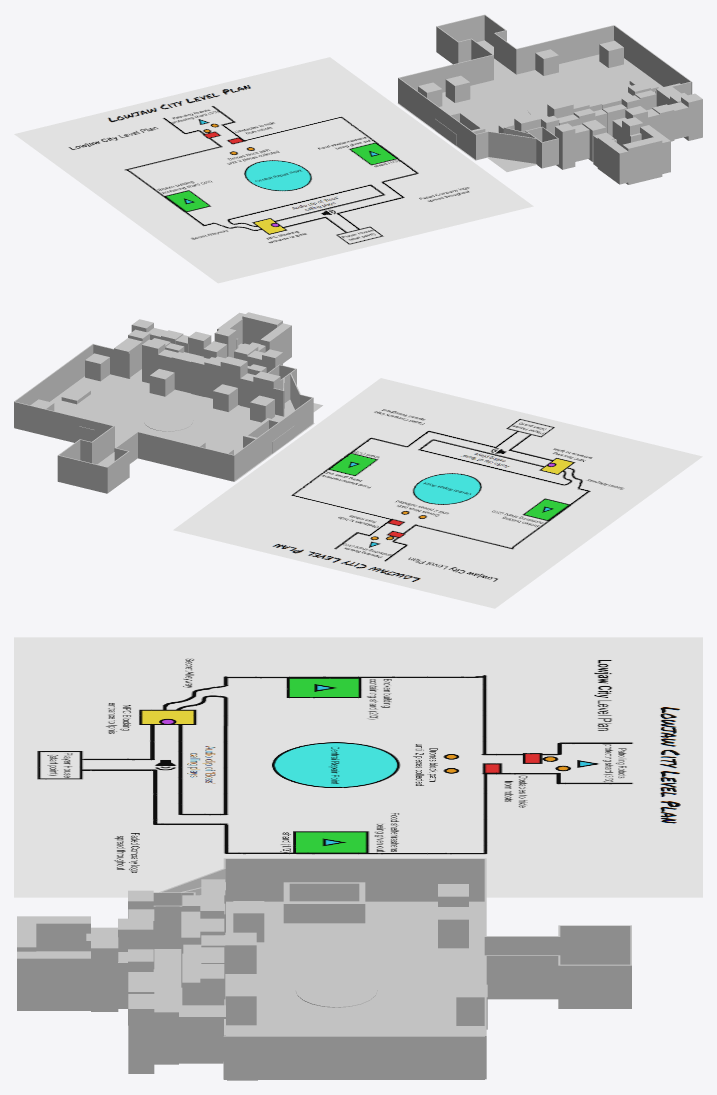
The model's file is Test Map - Iphis.fbx.
3 renders of one model, top to bottom at view 1: azimuth 30°, elevation 25°; view 2: azimuth 150°, elevation 25°; view 3: azimuth 270°, elevation 25°, orthographic. The views are drawn at different scales.
Visible parts, largest first — view 1: Plane, Floor__4_, Wall_1___11_, Wall_1___21_, Wall_1___12_, Wall_1___20_, Building, Wall_1___28_, Building_2, Wall_1___13_, Building_6, Building_25 (+10 smaller); view 2: Plane, Floor__4_, Wall_1___12_, Wall_1___11_, Wall_1___21_, Wall_1___20_, Wall_1___13_, Building, Cylinder, Building_14, Building_2, Building_11 (+11 smaller); view 3: Plane, Floor__4_, Wall_1___20_, Wall_1___21_, Building_1 (×2), Wall_1___19_, Wall_1___17_, Wall_1___16_, Building_27, Cylinder, Building_25, Building_2 (+15 smaller).
Boxes of the visible parts, x1=… form: Plane: x1=14, y1=57, x2=533, y2=283; Floor__4_: x1=397, y1=54, x2=662, y2=159; Wall_1___11_: x1=515, y1=25, x2=613, y2=74; Wall_1___21_: x1=398, y1=78, x2=476, y2=160; Wall_1___12_: x1=398, y1=54, x2=493, y2=102; Wall_1___20_: x1=614, y1=25, x2=692, y2=94; Building: x1=622, y1=136, x2=662, y2=184; Wall_1___28_: x1=488, y1=131, x2=536, y2=163; Building_2: x1=597, y1=135, x2=628, y2=184; Wall_1___13_: x1=436, y1=14, x2=485, y2=51; Building_6: x1=555, y1=123, x2=575, y2=169; Building_25: x1=681, y1=93, x2=702, y2=140; Plane: x1=173, y1=378, x2=702, y2=608; Floor__4_: x1=50, y1=374, x2=314, y2=481; Wall_1___12_: x1=138, y1=431, x2=234, y2=481; Wall_1___11_: x1=14, y1=401, x2=114, y2=451; Wall_1___21_: x1=234, y1=397, x2=313, y2=480; Wall_1___20_: x1=14, y1=344, x2=93, y2=427; Wall_1___13_: x1=57, y1=455, x2=107, y2=493; Building: x1=242, y1=312, x2=282, y2=344; Cylinder: x1=144, y1=410, x2=192, y2=431; Building_14: x1=171, y1=352, x2=197, y2=393; Building_2: x1=260, y1=323, x2=291, y2=363; Building_11: x1=220, y1=356, x2=247, y2=405; Plane: x1=14, y1=637, x2=702, y2=897; Floor__4_: x1=223, y1=901, x2=484, y2=1078; Wall_1___20_: x1=223, y1=1036, x2=484, y2=1079; Wall_1___21_: x1=223, y1=858, x2=484, y2=901; Building_1 (×2): x1=17, y1=937, x2=118, y2=1011; Wall_1___19_: x1=485, y1=955, x2=558, y2=999; Wall_1___17_: x1=559, y1=964, x2=630, y2=1008; Wall_1___16_: x1=559, y1=925, x2=630, y2=964; Building_27: x1=179, y1=1005, x2=225, y2=1063; Cylinder: x1=295, y1=972, x2=377, y2=1007; Building_25: x1=128, y1=997, x2=154, y2=1073; Building_2: x1=17, y1=916, x2=90, y2=951.
Bounding box in the file's own units: 28526 × 2296 × 18792.
